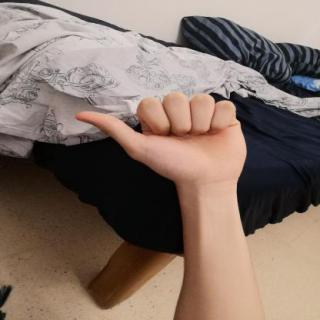DAD: (64, 85, 256, 192)
